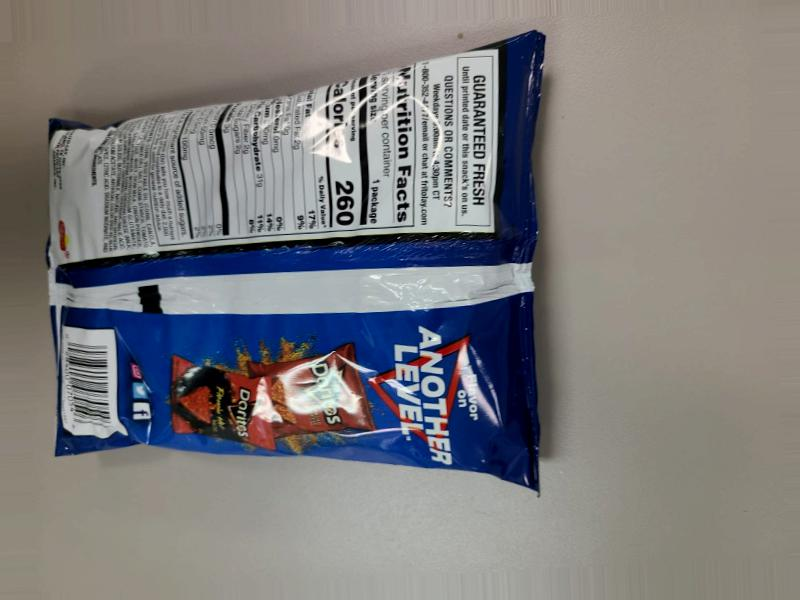doritos: (134, 14, 631, 458)
